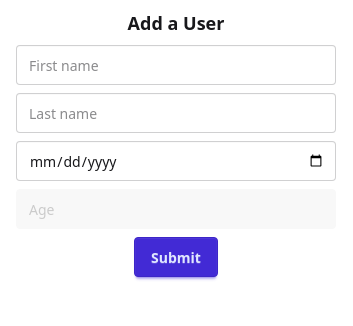
Scenario: AddUserForm › submits valid data and shows success message
Type "Alice" into the field with placeholder "First name".
click(176, 65); type("Alice")  # box [16,45,336,85]
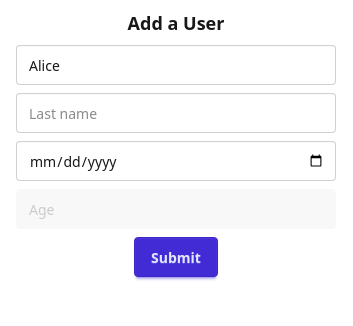
Type "Smith" into the field with placeholder "Last name".
click(176, 113); type("Smith")  # box [16,93,336,133]
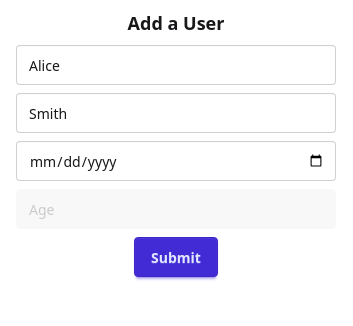
Type "1995-01-02" into the date field with test id "date-input".
click(176, 161); type("1995-01-02")  # box [16,141,336,181]
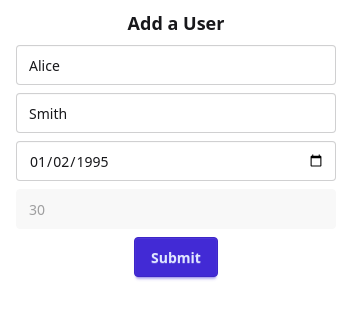
Click the button "Submit".
click(176, 257)  # box [134,237,218,277]
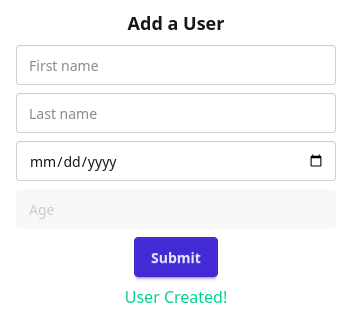
Expected: the text "User Created!" is shown, [125,285,227,309]
